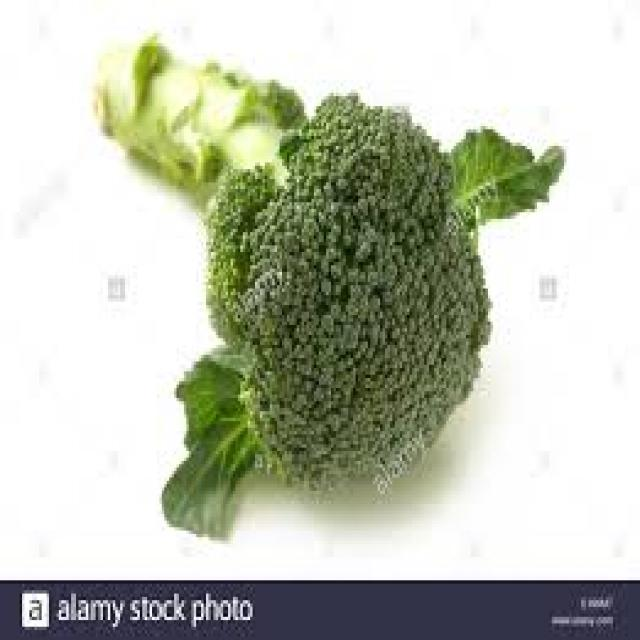organic waste: (90, 33, 562, 537)
